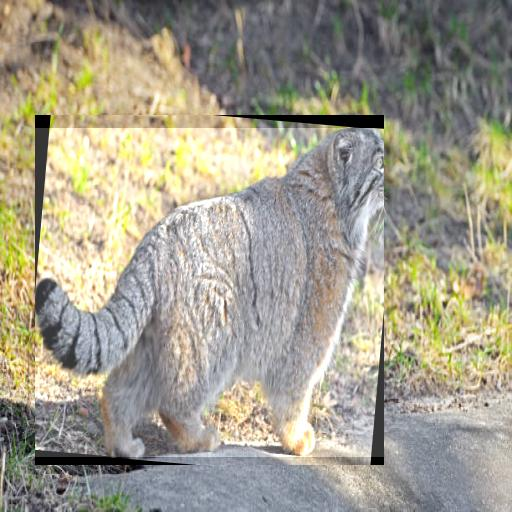manul: (35, 129, 384, 457)
